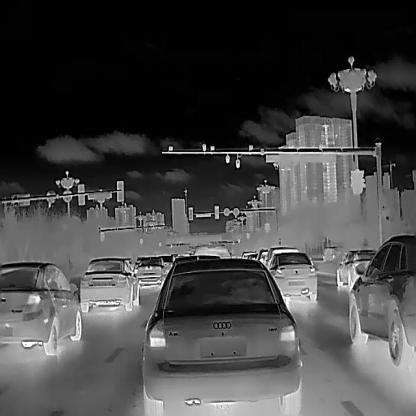car: (142, 256, 302, 415), (345, 232, 415, 365), (0, 262, 81, 355), (80, 256, 139, 312), (267, 251, 317, 299), (335, 249, 380, 289), (134, 255, 167, 283), (322, 245, 340, 262)
